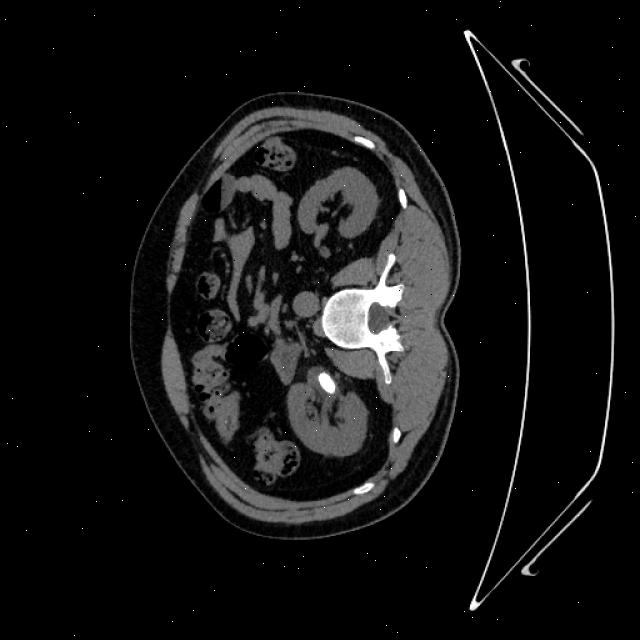kidneystone: (318, 371, 336, 394)
